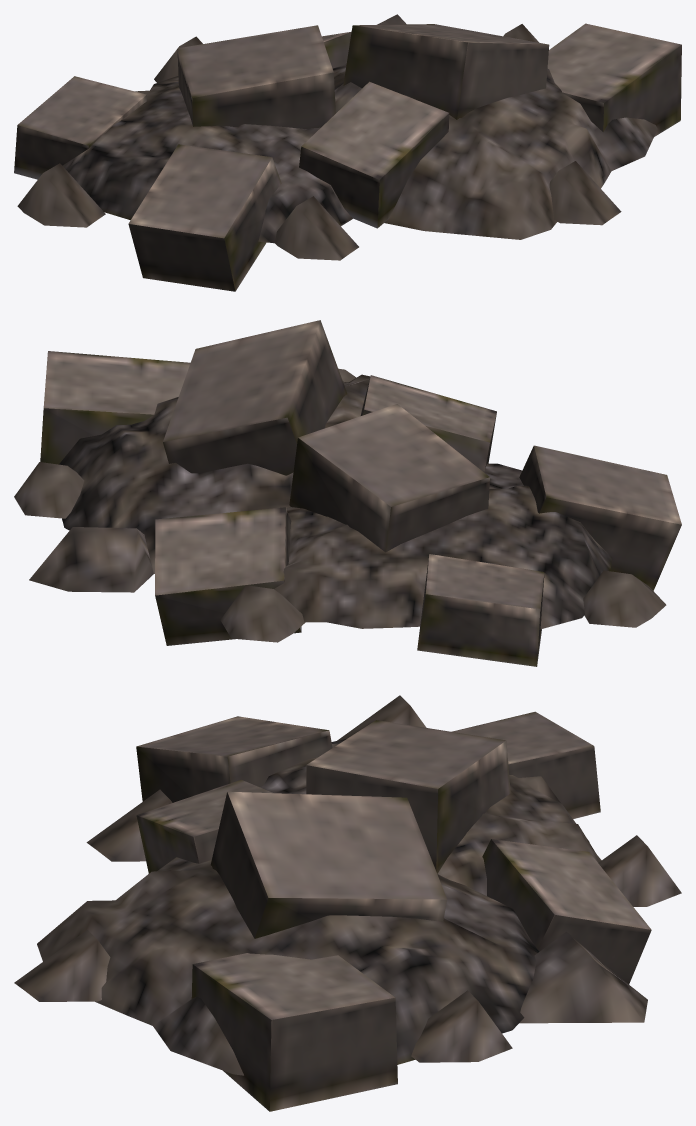
Rendered from SM_zhucheng_Floors_Rubble.FBX.
3 renders of one model, top to bottom at view 1: azimuth 30°, elevation 25°; view 2: azimuth 150°, elevation 25°; view 3: azimuth 270°, elevation 25°, orthographic. The views are drawn at different scales.
Visible parts, largest first — view 1: SM_zhucheng_Floors_Rubble; view 2: SM_zhucheng_Floors_Rubble; view 3: SM_zhucheng_Floors_Rubble.
Part boxes in pixels (bbox=[...]): SM_zhucheng_Floors_Rubble: bbox=[14, 14, 681, 291]; SM_zhucheng_Floors_Rubble: bbox=[14, 320, 681, 666]; SM_zhucheng_Floors_Rubble: bbox=[14, 695, 681, 1111].
Size of the model in its own units: 133 by 37.02 by 103.
